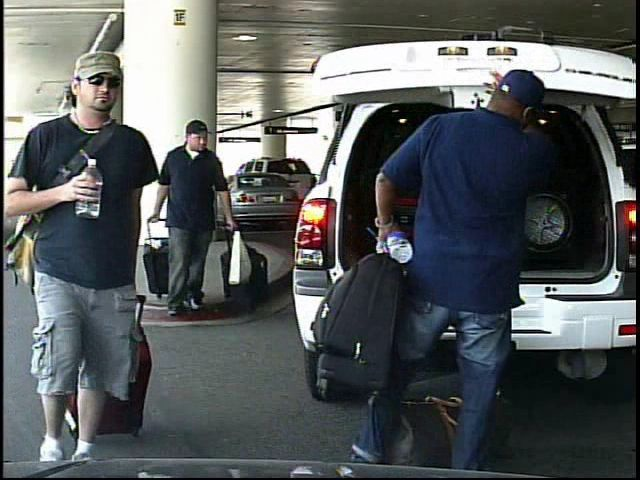person: (355, 74, 541, 476), (11, 57, 178, 480), (164, 115, 246, 319)
